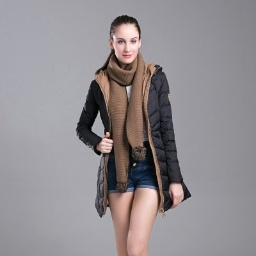face: (103, 15, 143, 64)
